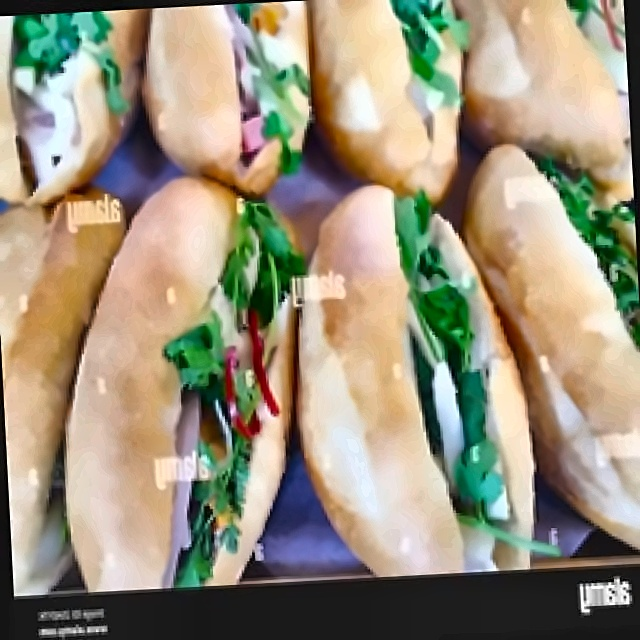bread: (0, 183, 193, 592), (457, 144, 636, 526), (271, 194, 436, 576), (44, 180, 239, 315), (451, 0, 622, 151), (312, 4, 444, 186), (136, 10, 256, 179), (63, 18, 154, 168)
